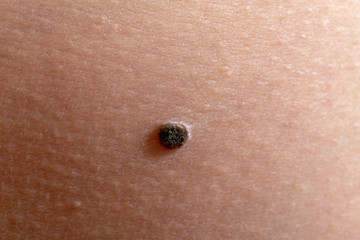melanoma: (142, 101, 211, 170)
